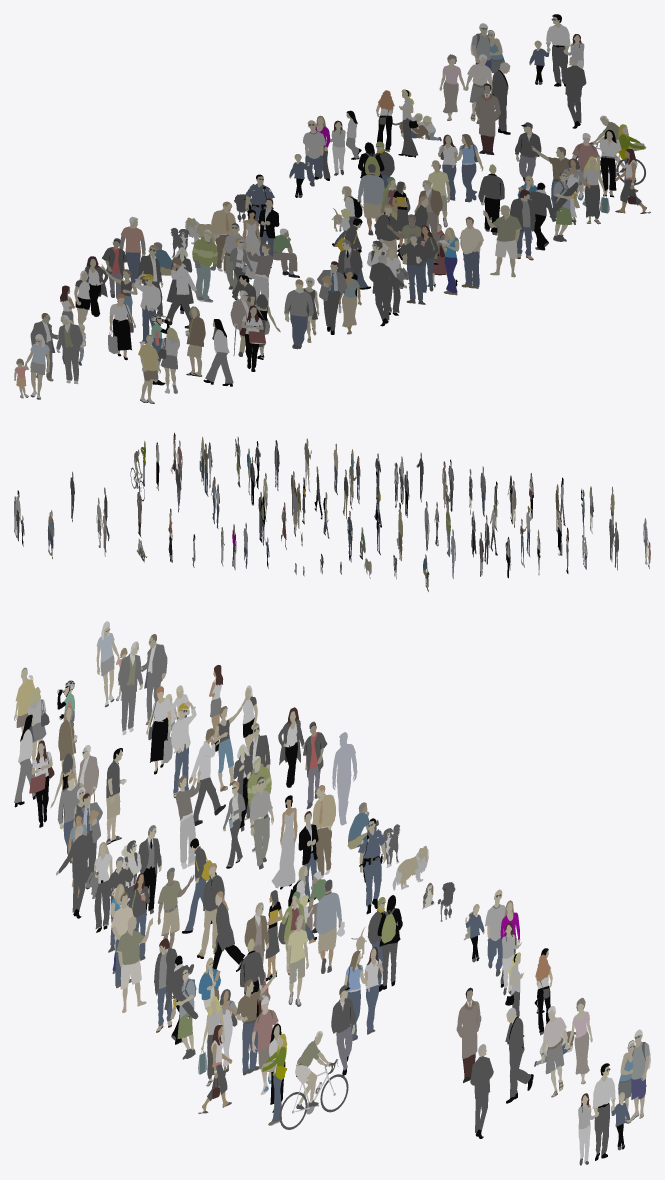
Rendered from group_of_people.glb.
3 views of the same model, one above another, from view 1: azimuth 30°, elevation 25°; view 2: azimuth 150°, elevation 25°; view 3: azimuth 270°, elevation 25° (orthographic). The views are drawn at different scales.
Parts seen in each view (by area): view 1: Material2 (×23), Material3 (×5); view 2: Material2 (×11), Material3 (×4); view 3: Material2 (×24), Material3 (×5).
Part boxes in pixels (x1=…): Material2 (×23): x1=20, y1=14, x2=650, y2=403; Material3 (×5): x1=41, y1=23, x2=650, y2=383; Material2 (×11): x1=14, y1=436, x2=648, y2=591; Material3 (×4): x1=14, y1=439, x2=618, y2=574; Material2 (×24): x1=14, y1=621, x2=650, y2=1165; Material3 (×5): x1=14, y1=634, x2=615, y2=1163.
Bounding box in the file's own units: 776 × 117 × 443.
